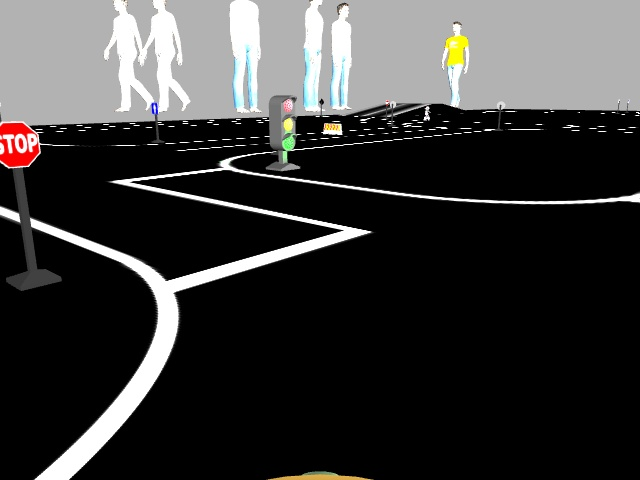ClosedRoadStand: (322, 122, 342, 135)
OneWay: (150, 101, 158, 113)
Stop: (0, 121, 41, 166)
TrafficLight: (267, 96, 295, 150)
